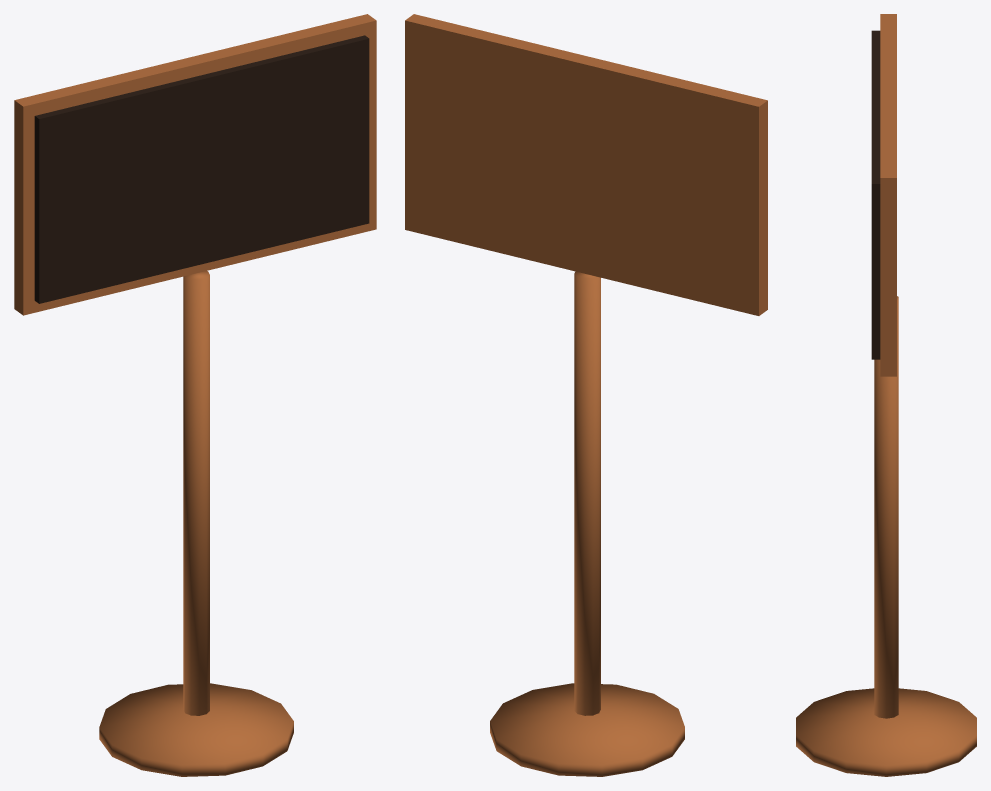
Rendered from standard_sign.glb.
The picture shows the model from 3 angles, left to right: view 1: azimuth 30°, elevation 25°; view 2: azimuth 150°, elevation 25°; view 3: azimuth 270°, elevation 25°; orthographic projection. The views are drawn at different scales.
Visible parts, largest first — view 1: standard_sign sign, standard_sign metal; view 2: standard_sign metal; view 3: standard_sign metal, standard_sign sign.
Boxes of the visible parts, x1=… form: standard_sign sign: x1=34, y1=35, x2=369, y2=303; standard_sign metal: x1=14, y1=14, x2=376, y2=776; standard_sign metal: x1=405, y1=14, x2=767, y2=776; standard_sign metal: x1=796, y1=14, x2=976, y2=776; standard_sign sign: x1=871, y1=30, x2=880, y2=359.
Size of the model in its own units: 0.92 by 1.68 by 0.429.
